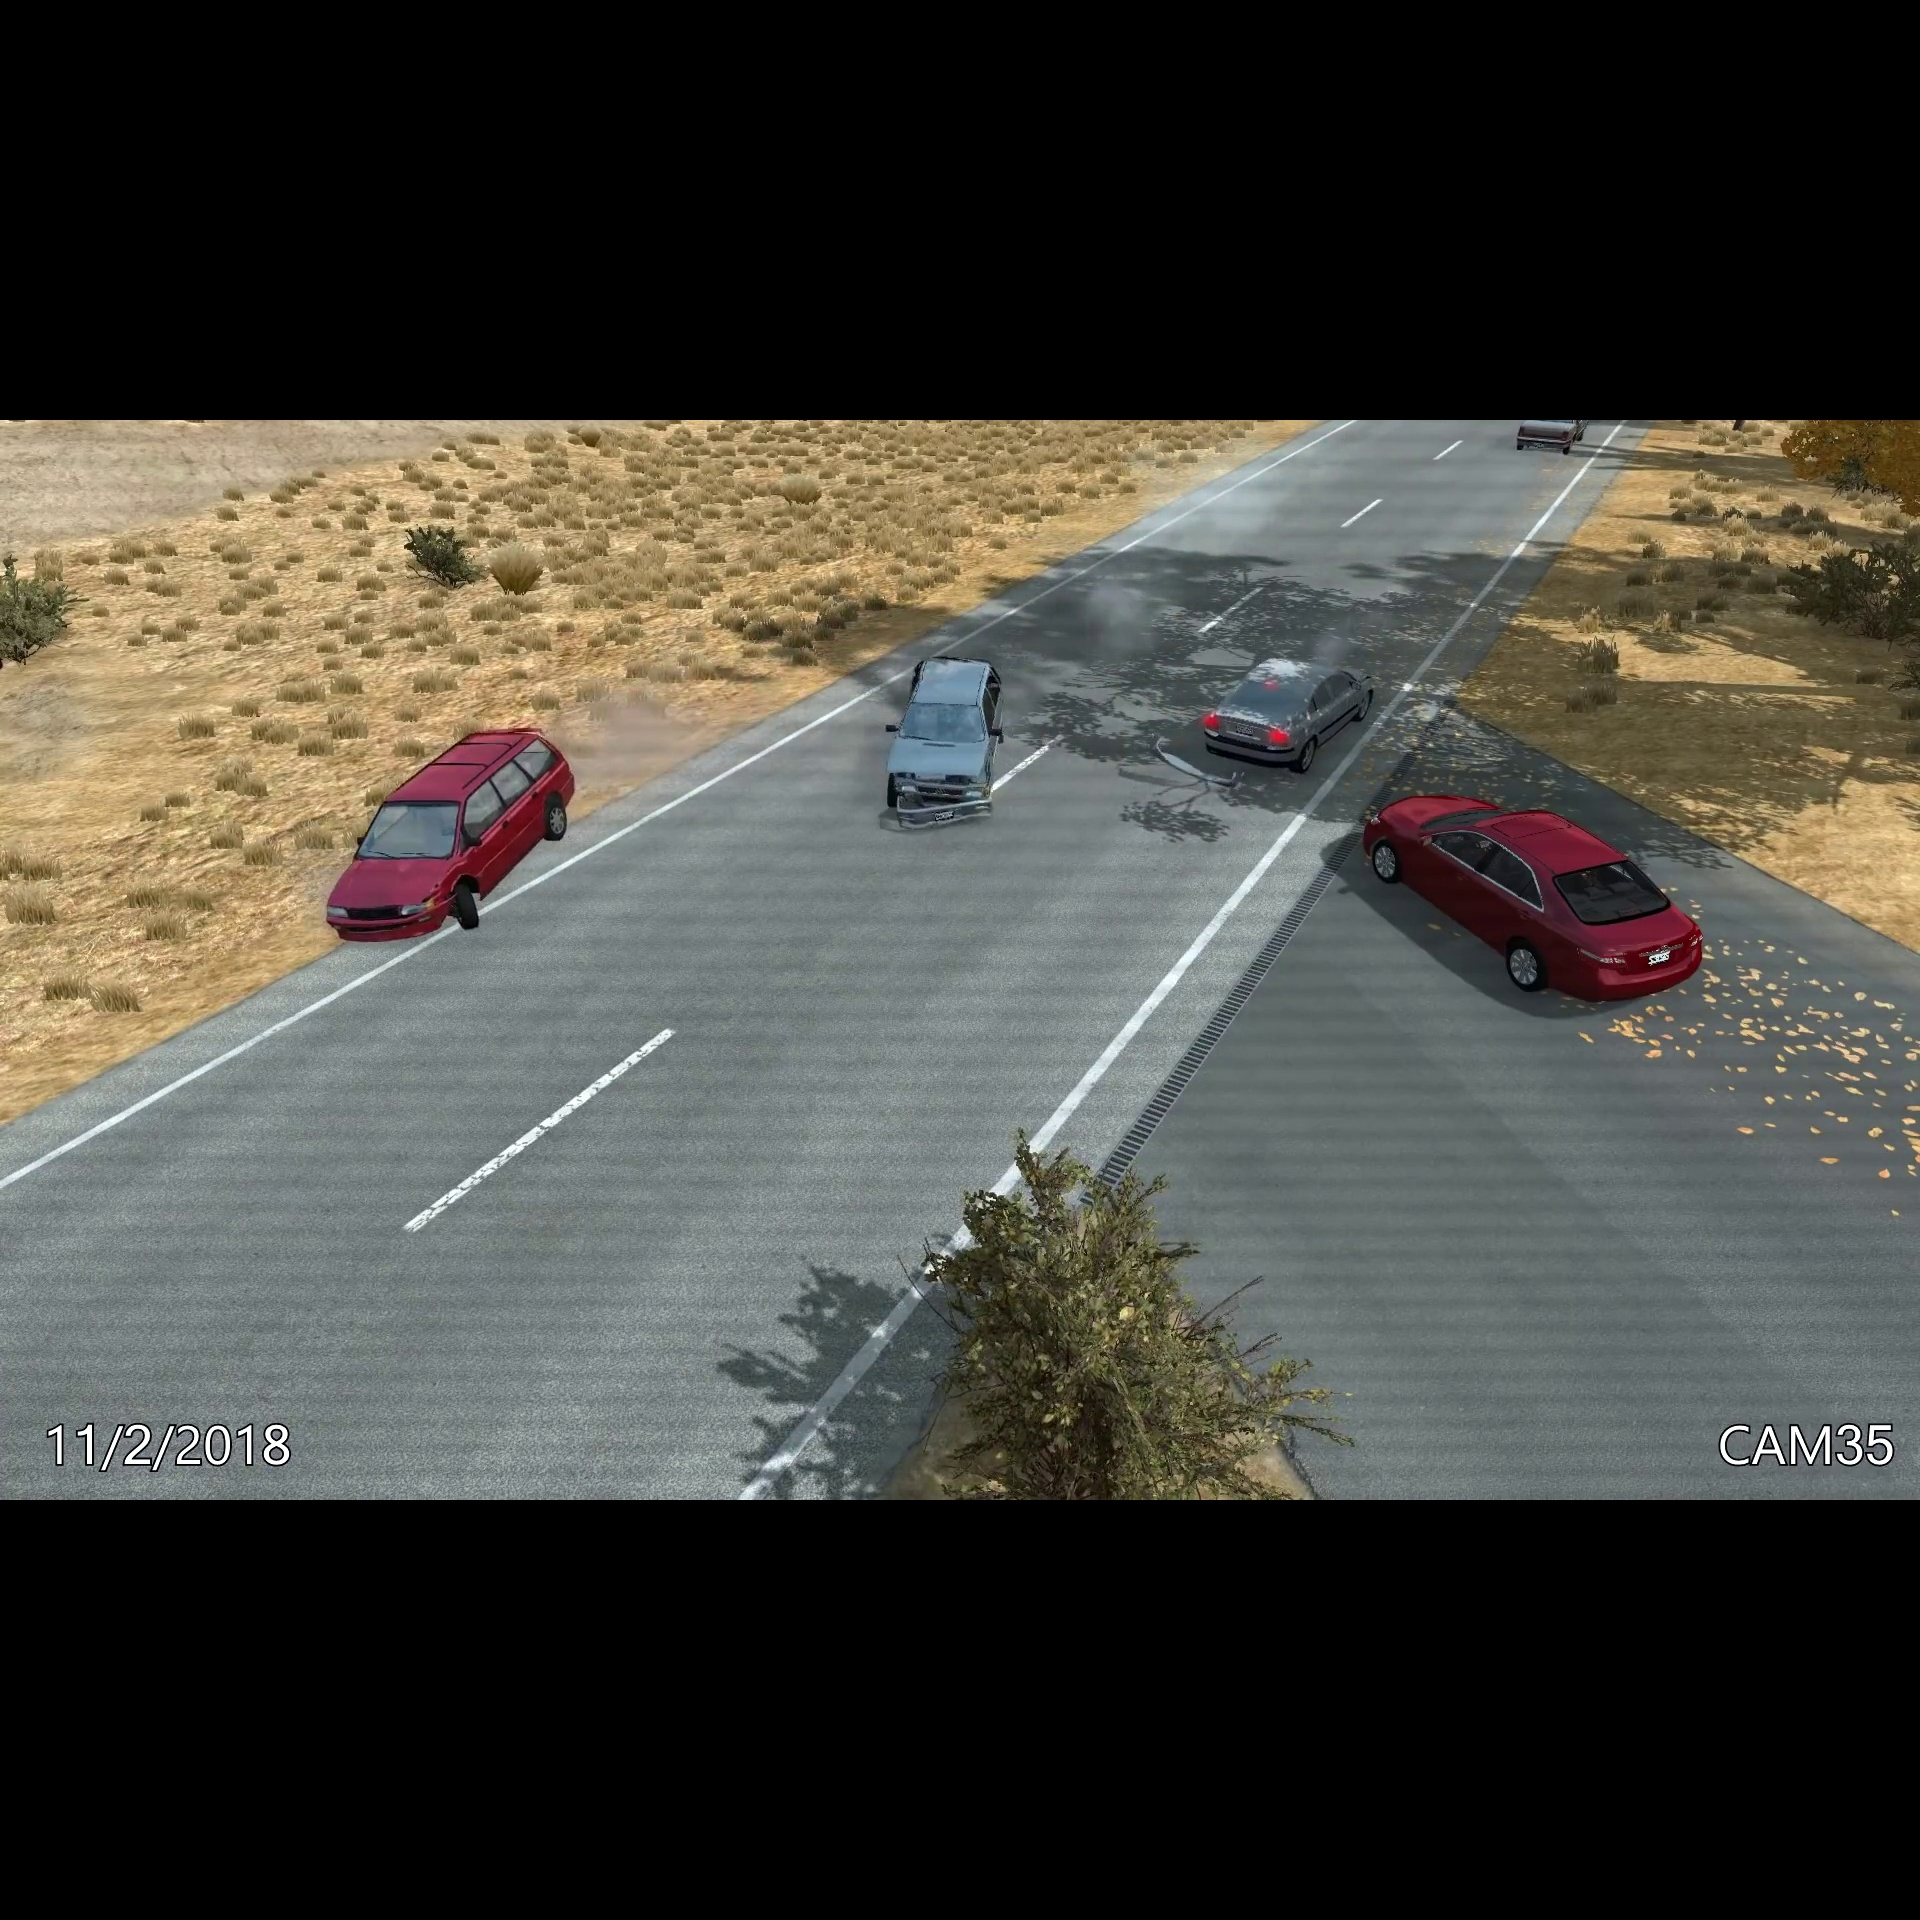vehicle: (1354, 788, 1713, 1013), (311, 719, 582, 964), (877, 649, 1013, 830), (1201, 651, 1382, 774)
